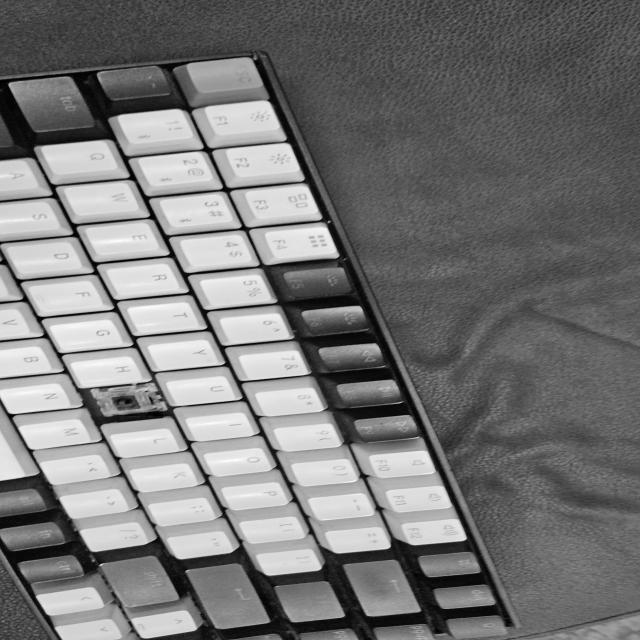C: (102, 391, 163, 416)
